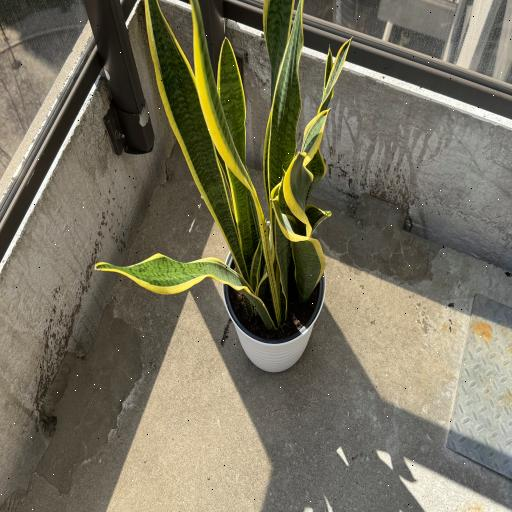Plant Pot: (224, 246, 326, 376)
